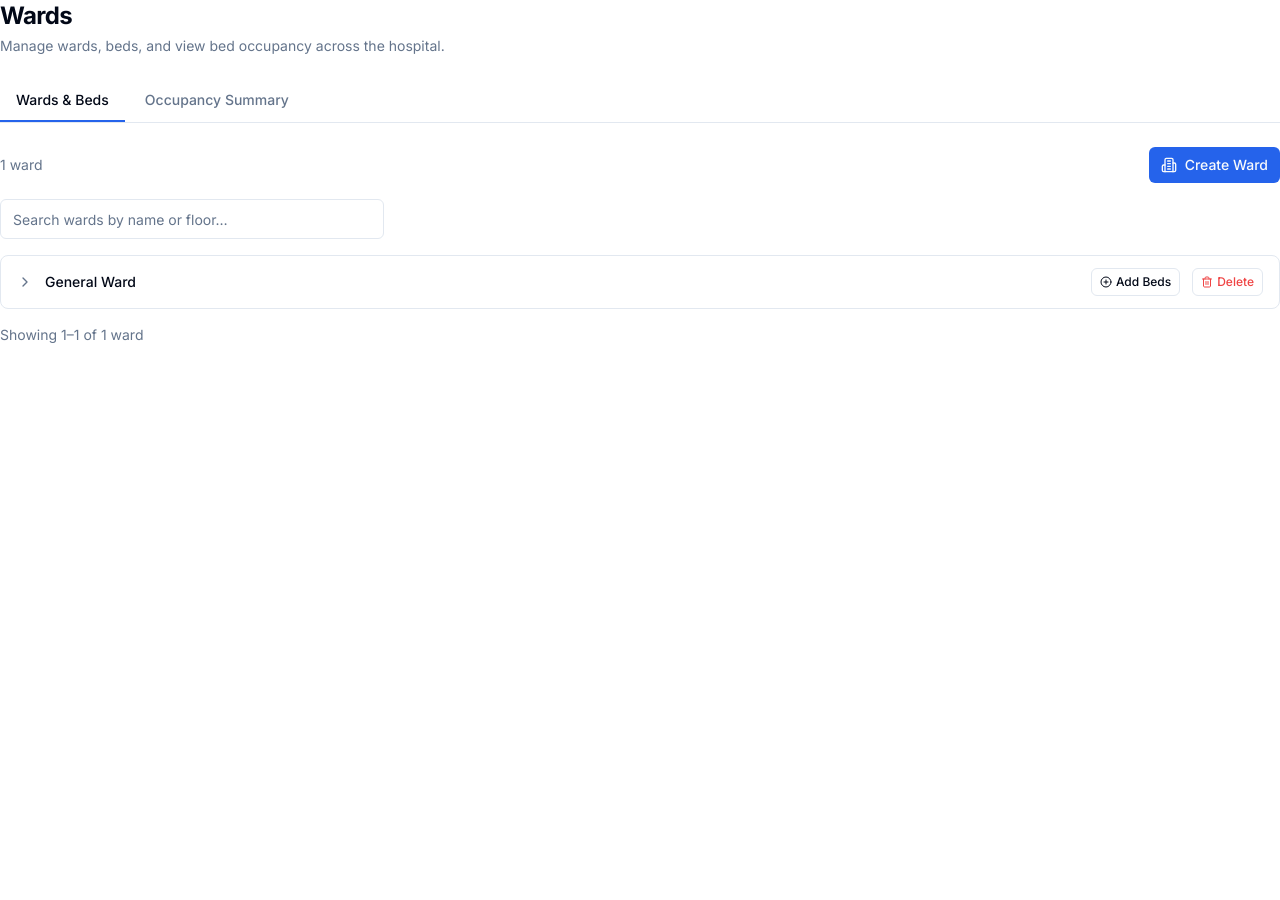
Test: WardsPage — ward delete and bed edit/delete (Hospital Admin only) › ward delete asks for confirmation and shows the server 409 message
What coordinates should you click on to do the following:
click the button with aria-label "Delete ward General Ward"
I would click on:
 (1228, 282)
Its box is [1192,268,1263,296].
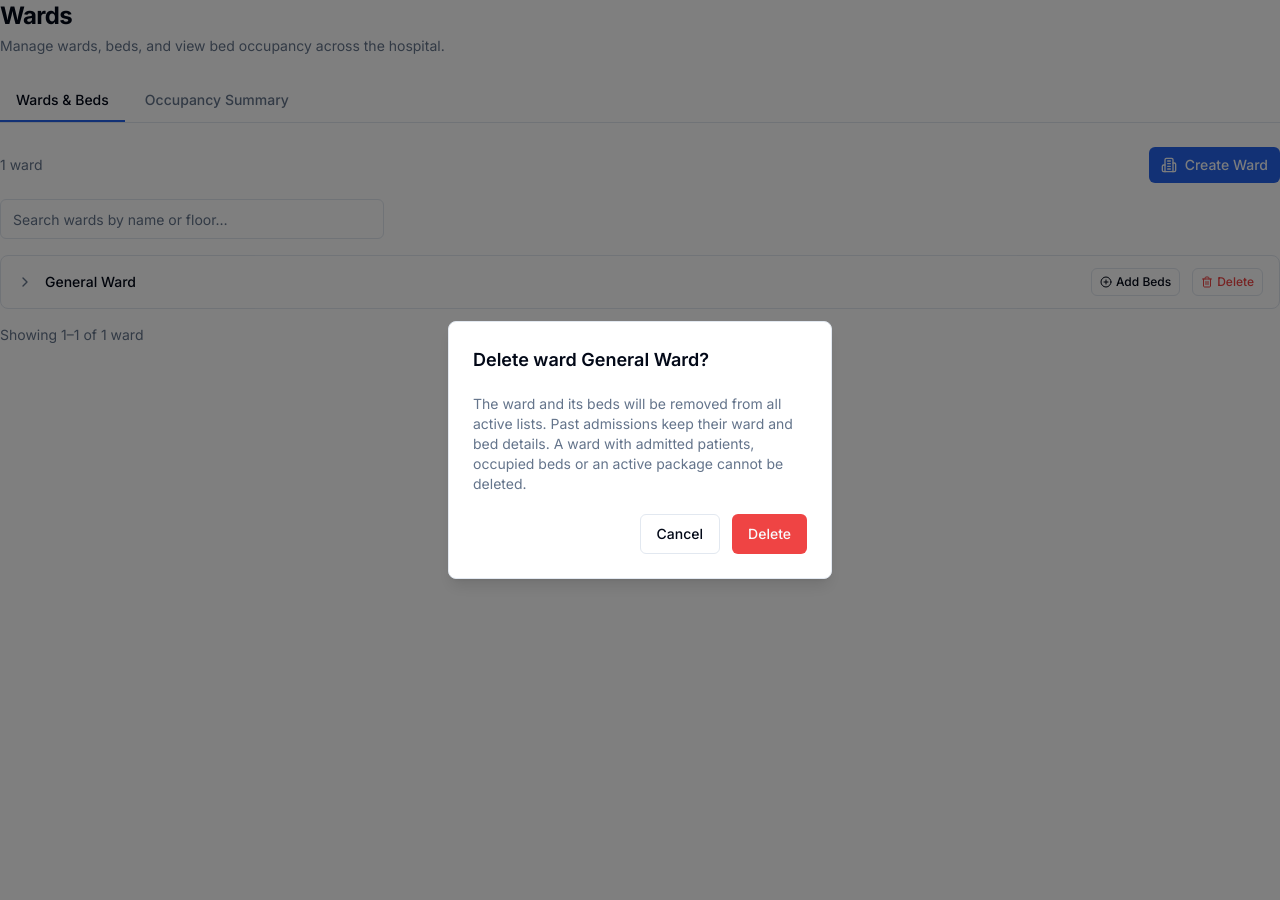
What coordinates should you click on to do the following:
click the button "Delete"
I would click on:
 (770, 534)
Its box is [732,514,807,554].
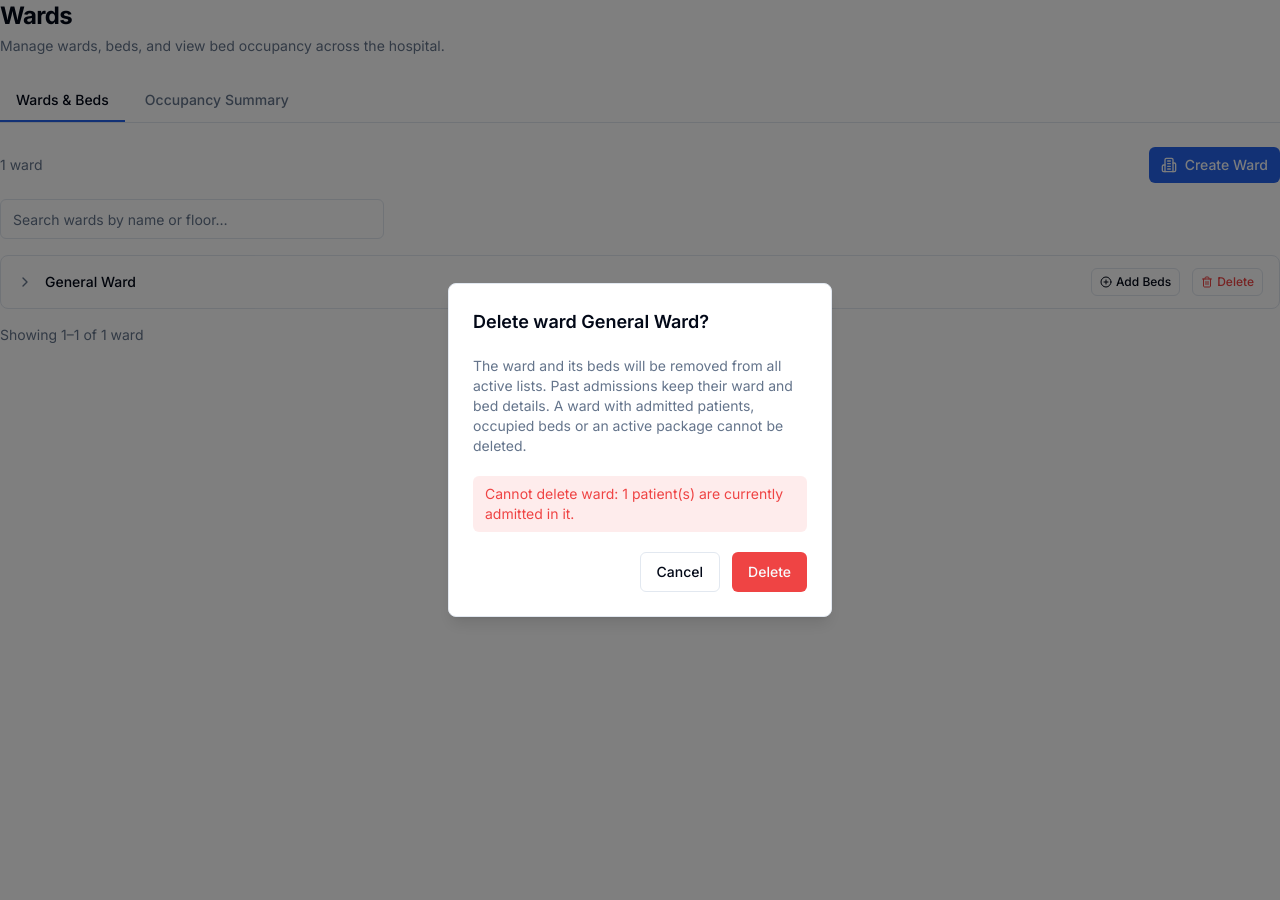
Check: the text "Cannot delete ward: 1 patient(s) are currently admitted in it." is shown, box [473,476,807,532]
